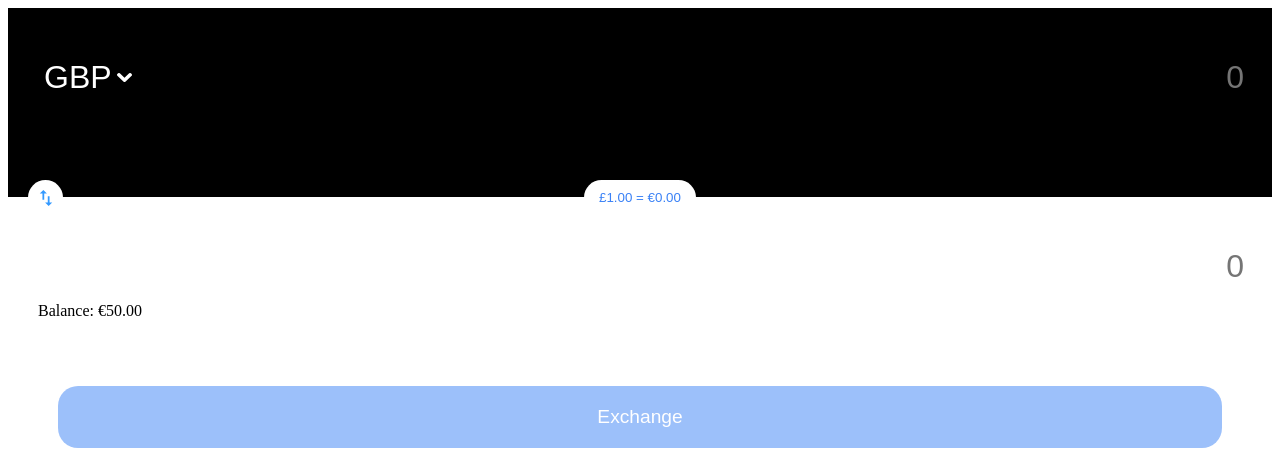
Test case: Toggle button to switch currencies
The width and height of the screenshot is (1280, 465).
Click the 2nd button with test id "button" at coordinates (46, 198), box x1=28 y1=180 x2=63 y2=215
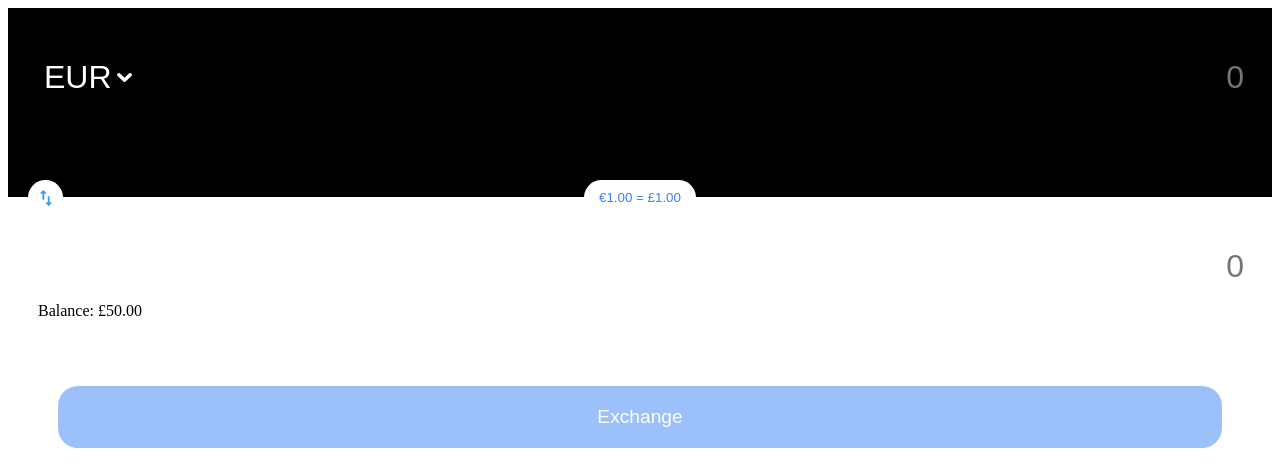
Expected: the button with test id "button" reads "EUR", x1=38 y1=58 x2=132 y2=97
